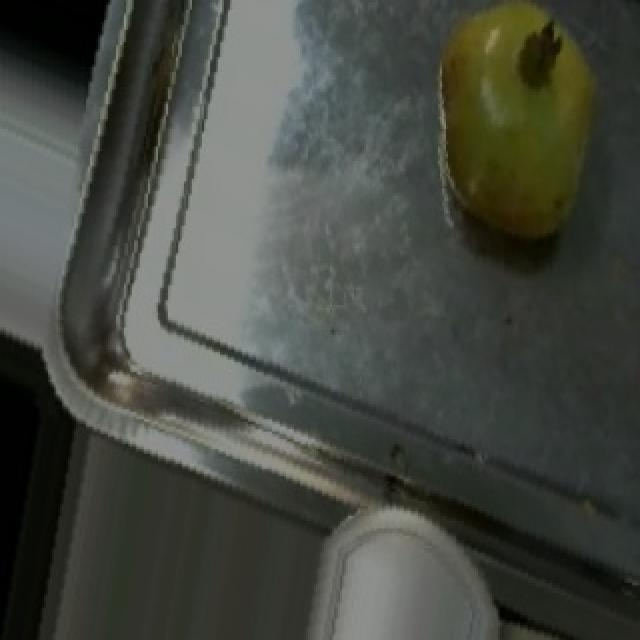fruit: (408, 10, 632, 268)
